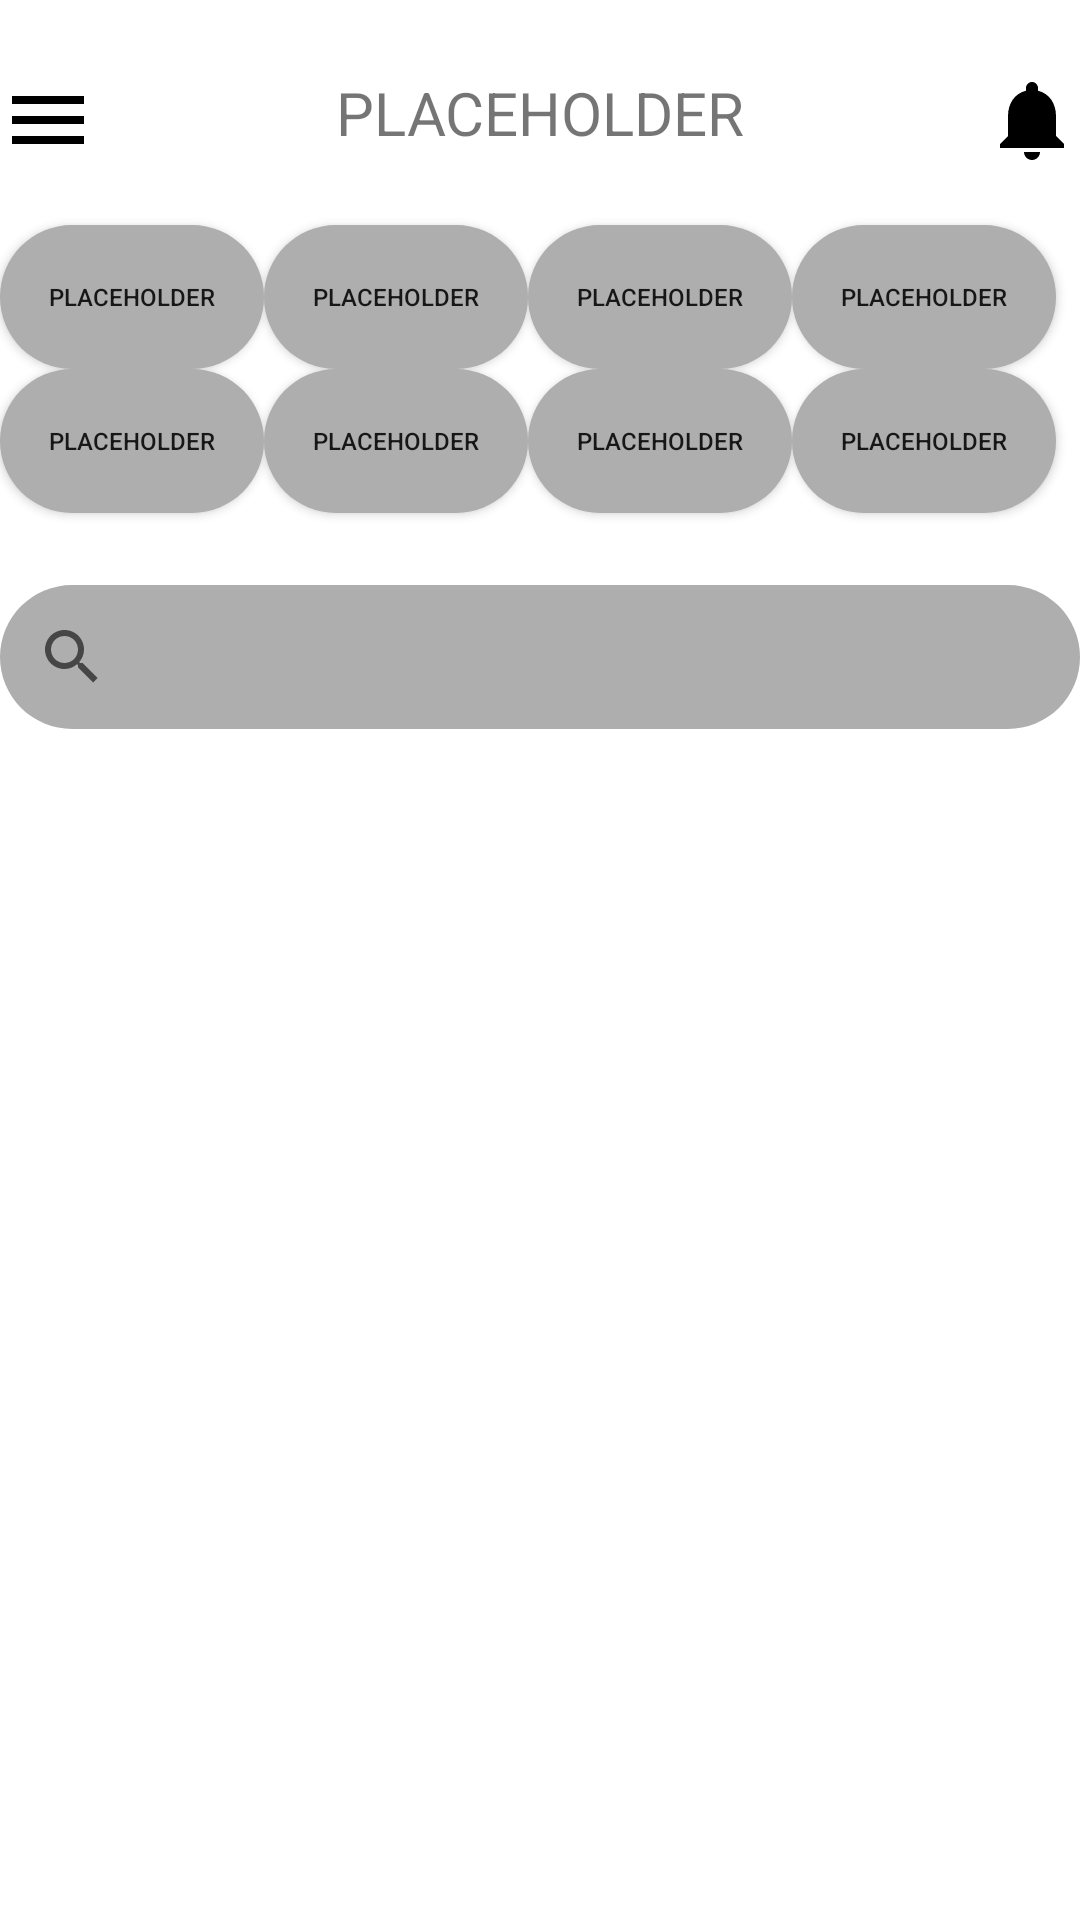

Screen size 1080×1920. Icon name, then its center in pixels as [x,y]:
menu: [48,120]
notifications: [1032,121]
